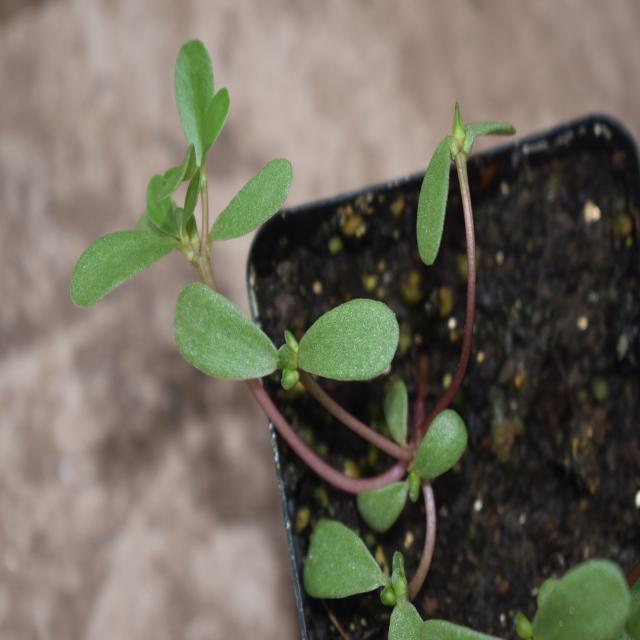purslane: (59, 32, 399, 430)
